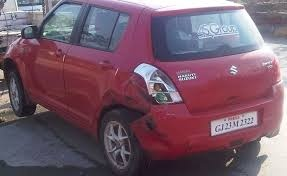Broken-glass: (146, 67, 179, 105)
Dent: (115, 78, 156, 135)
